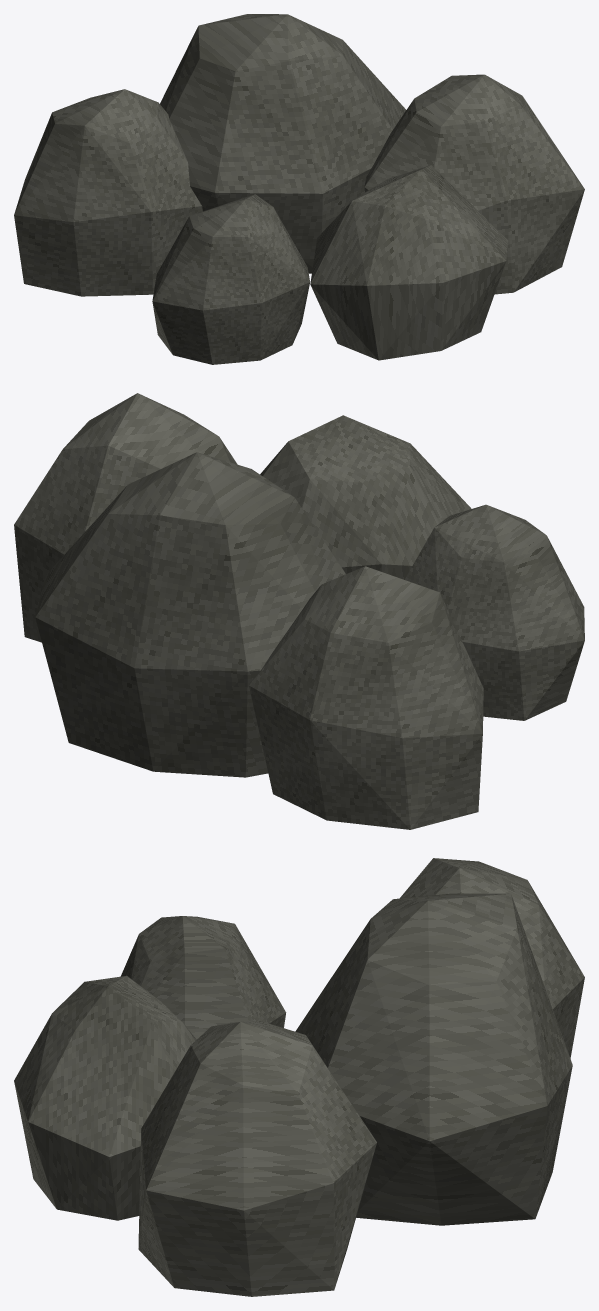
The model's file is env_rocks_08_large_outcrop.glb.
3 renders of one model, top to bottom at view 1: azimuth 30°, elevation 25°; view 2: azimuth 150°, elevation 25°; view 3: azimuth 270°, elevation 25°, orthographic. The views are drawn at different scales.
Visible parts, largest first — view 1: solid; view 2: solid; view 3: solid.
Boxes of the visible parts, x1=… form: solid: x1=14, y1=14, x2=584, y2=364; solid: x1=14, y1=393, x2=584, y2=829; solid: x1=14, y1=858, x2=584, y2=1296.
Bounding box in the file's own units: 1.92 × 0.8909 × 1.65.
1 material, 1 textured.
